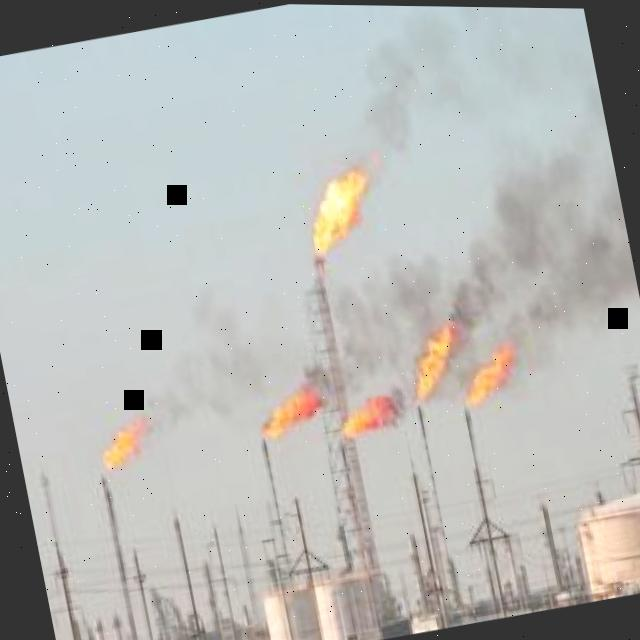fire: (311, 169, 366, 259), (465, 340, 514, 414), (263, 383, 324, 439), (417, 324, 454, 399), (342, 392, 396, 437), (99, 418, 143, 471)
smoke: (305, 5, 625, 423), (146, 286, 304, 448)
